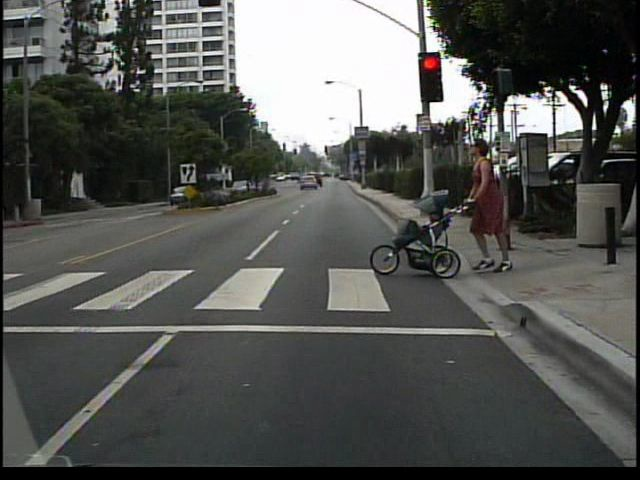person: (459, 140, 534, 279)
